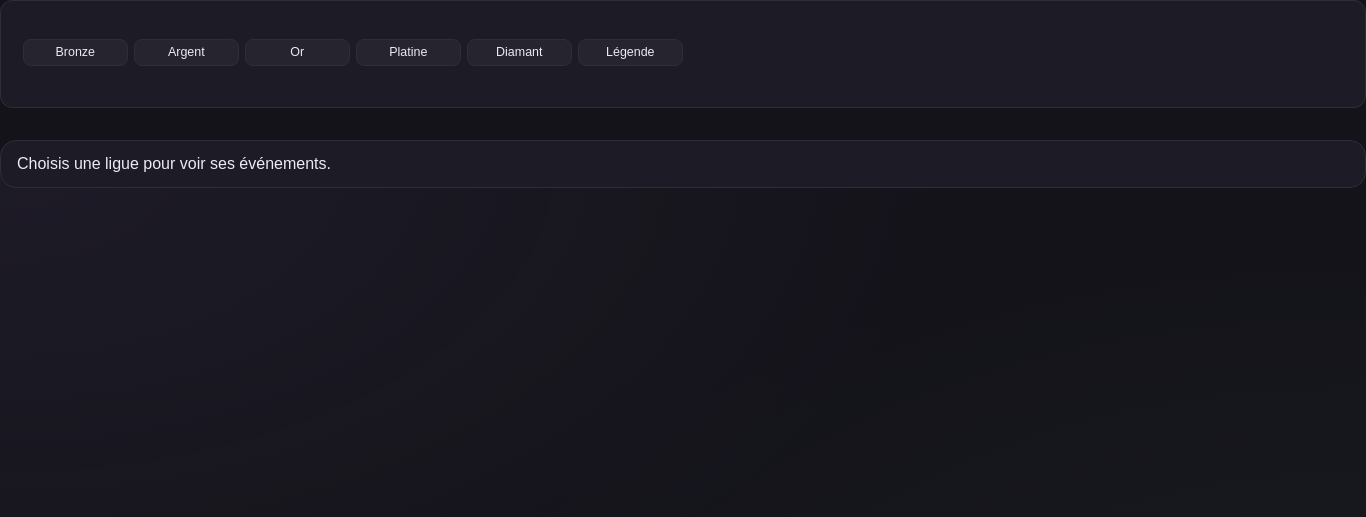
EventsReferenceTable › Bloc60: renders each event closed by default, opening to reveal its tiers
Click the button "Bronze": point(75, 52) top-left (23, 39), bottom-right (128, 66)
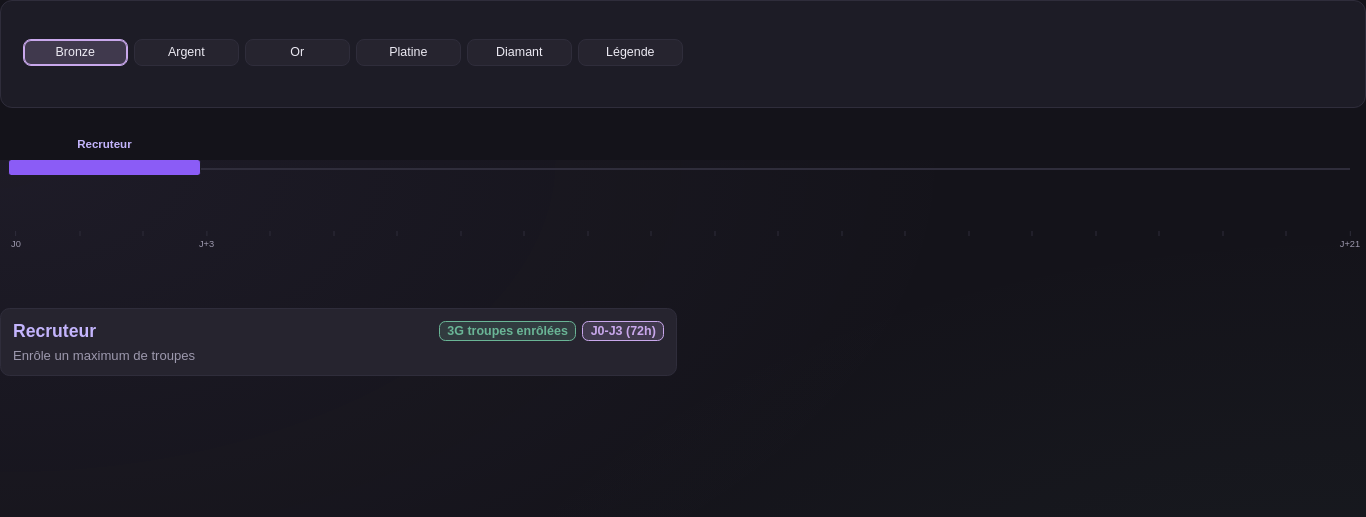
Expected: the text "1G troupes enrôlées" is not shown
Click the text "Recruteur" in the row of "3G troupes enrôlées": point(55, 331) top-left (13, 321), bottom-right (96, 342)
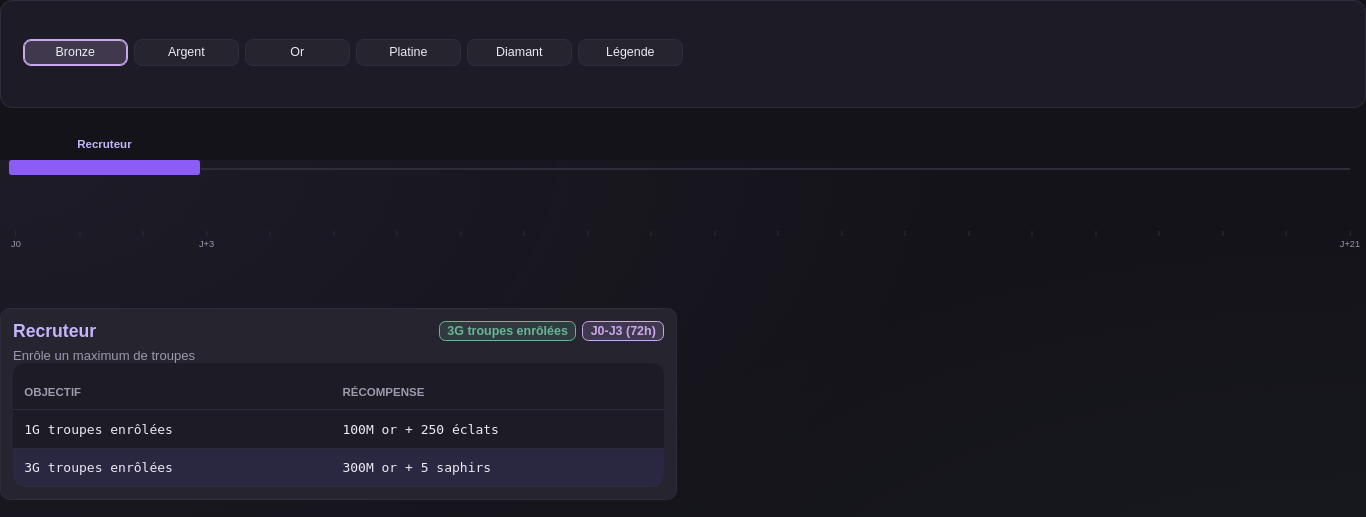
Expected: the text "1G troupes enrôlées" is shown, top-left (13, 410), bottom-right (331, 448)
Expected: the text "100M or + 250 éclats" is shown, top-left (331, 410), bottom-right (664, 448)
